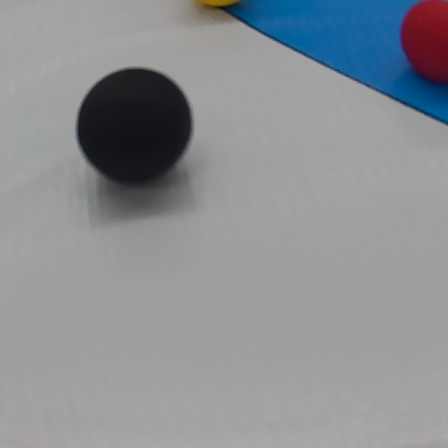black: (73, 66, 193, 192)
blue_base: (216, 0, 447, 129)
red: (398, 0, 448, 90)
yellow: (184, 0, 252, 10)
